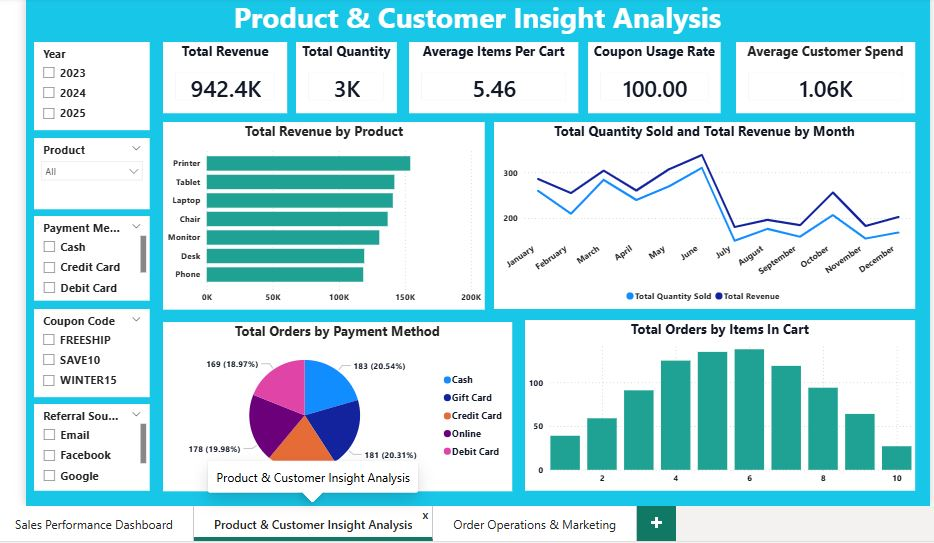

The dashboard page shown, as its layout file describes it:
{"tool":"powerbi","page":{"name":"Product & Customer Insight Analysis","canvas":[1280,720],"ordinal":1},"visuals":[{"type":"cardVisual","title":"Total Revenue","fields":{"Data":["DecodeLab Project 4.Total Revenue"]},"box":[194.9,62.2,176.4,100.8],"z":0},{"type":"cardVisual","title":"Total Quantity","fields":{"Data":["Sum(DecodeLab Project 4.Quantity)"]},"box":[383,62.2,142.8,100.8],"z":1000},{"type":"cardVisual","title":"Average Items Per Cart","fields":{"Data":["DecodeLab Project 4.Average Items Per Cart"]},"box":[542.6,62.2,240.2,100.8],"z":2000},{"type":"cardVisual","title":"Coupon Usage Rate","fields":{"Data":["DecodeLab Project 4.Coupon Usage Rate"]},"box":[796.2,62.2,188.1,100.8],"z":3000},{"type":"barChart","fields":{"Category":["DecodeLab Project 4.Product"],"Y":["DecodeLab Project 4.Total Revenue"]},"box":[194.2,175.7,456.4,266.5],"z":4000},{"type":"pieChart","title":"Total Orders by Payment Method","fields":{"Category":["DecodeLab Project 4.PaymentMethod"],"Y":["DecodeLab Project 4.Total Orders"]},"box":[194.2,459.2,494.6,239.5],"z":5000},{"type":"clusteredColumnChart","title":"Total Orders by Items In Cart","fields":{"Category":["DecodeLab Project 4.ItemsInCart"],"Y":["DecodeLab Project 4.Total Orders"]},"box":[707.2,456.4,552.8,242.4],"z":6000},{"type":"lineChart","fields":{"Category":["DateTable.Month"],"Y":["DecodeLab Project 4.Total Quantity Sold"],"Y2":["DecodeLab Project 4.Total Revenue"]},"box":[663.3,175.7,596.7,265],"z":7000},{"type":"slicer","fields":{"Values":["DecodeLab Project 4.Year"]},"box":[11.3,62.4,164.4,124.7],"z":8000},{"type":"slicer","fields":{"Values":["DecodeLab Project 4.PaymentMethod"]},"box":[11.3,309,164.4,120.5],"z":9000},{"type":"slicer","fields":{"Values":["DecodeLab Project 4.ReferralSource"]},"box":[11.3,575.4,164.4,123.3],"z":10000},{"type":"slicer","fields":{"Values":["DecodeLab Project 4.Product"]},"box":[11.3,198.4,164.4,100.6],"z":11000},{"type":"slicer","fields":{"Values":["DecodeLab Project 4.CouponCode"]},"box":[11.3,440.8,164.4,124.7],"z":12000},{"type":"cardVisual","title":"Average Customer Spend","fields":{"Data":["DecodeLab Project 4.Average Customer Spend"]},"box":[1006.2,62.2,253.6,100.8],"z":13000},{"type":"actionButton","title":"Product & Customer Insight Analysis","box":[0,0,1279.8,52.4],"z":14000}]}

Visuals, with their boxes on the page's 1280x720 design canvas (x1, y1, x2, y2). These are canvas units, not pixel positions in the 934x543 screenshot, which may show the page scaled, cropped or inside an application window:
"Total Revenue" cardVisual: <box>195,62,371,163</box>
"Total Quantity" cardVisual: <box>383,62,526,163</box>
"Average Items Per Cart" cardVisual: <box>543,62,783,163</box>
"Coupon Usage Rate" cardVisual: <box>796,62,984,163</box>
barChart - DecodeLab Project 4.Product x DecodeLab Project 4.Total Revenue: <box>194,176,651,442</box>
"Total Orders by Payment Method" pieChart: <box>194,459,689,699</box>
"Total Orders by Items In Cart" clusteredColumnChart: <box>707,456,1260,699</box>
lineChart - DateTable.Month x DecodeLab Project 4.Total Quantity Sold: <box>663,176,1260,441</box>
slicer - DecodeLab Project 4.Year: <box>11,62,176,187</box>
slicer - DecodeLab Project 4.PaymentMethod: <box>11,309,176,430</box>
slicer - DecodeLab Project 4.ReferralSource: <box>11,575,176,699</box>
slicer - DecodeLab Project 4.Product: <box>11,198,176,299</box>
slicer - DecodeLab Project 4.CouponCode: <box>11,441,176,566</box>
"Average Customer Spend" cardVisual: <box>1006,62,1260,163</box>
"Product & Customer Insight Analysis" actionButton: <box>0,0,1280,52</box>
